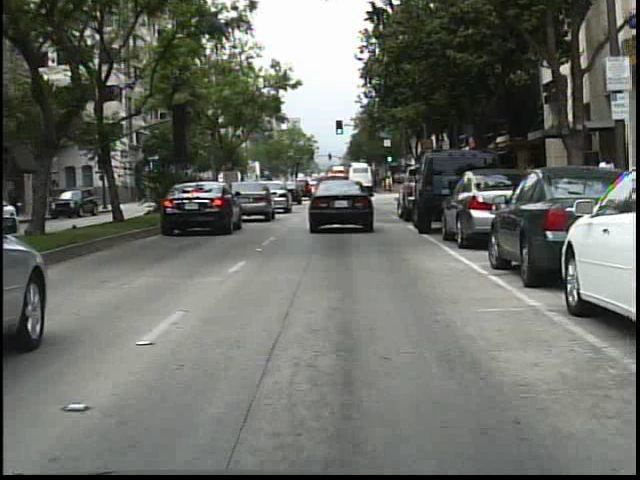person: (594, 152, 620, 227)
